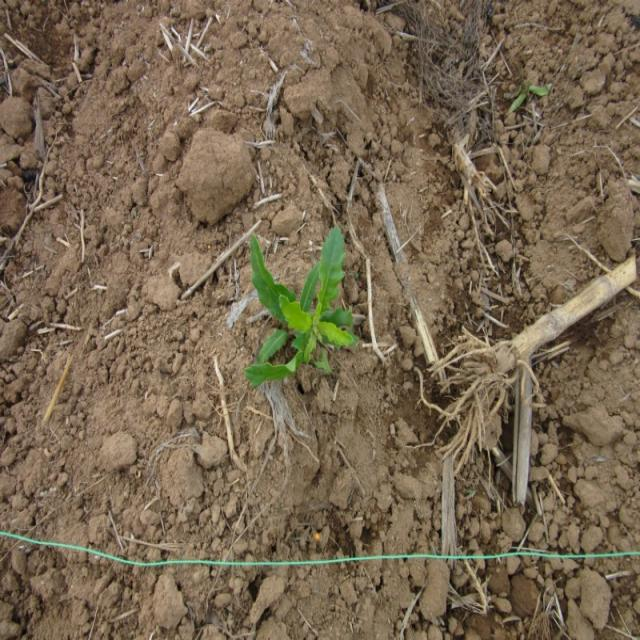cs: (243, 224, 358, 393)
